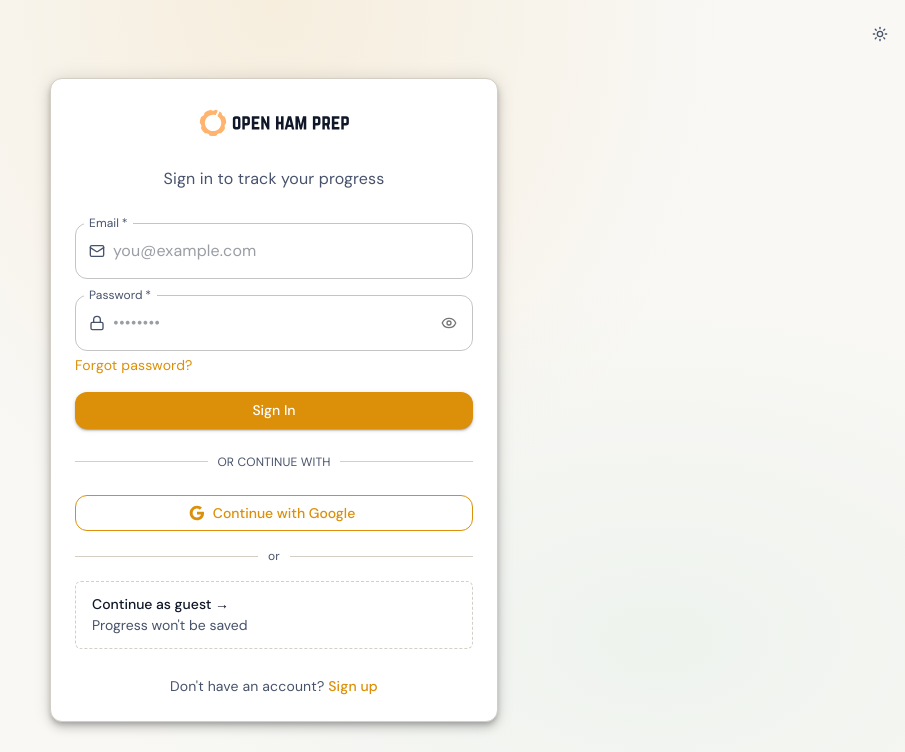
Auth › password reset › asks for an address and sends the link
This screenshot has width=905, height=752.
Click the button "Forgot password?" at coordinates (134, 366), box [75,355,193,376]
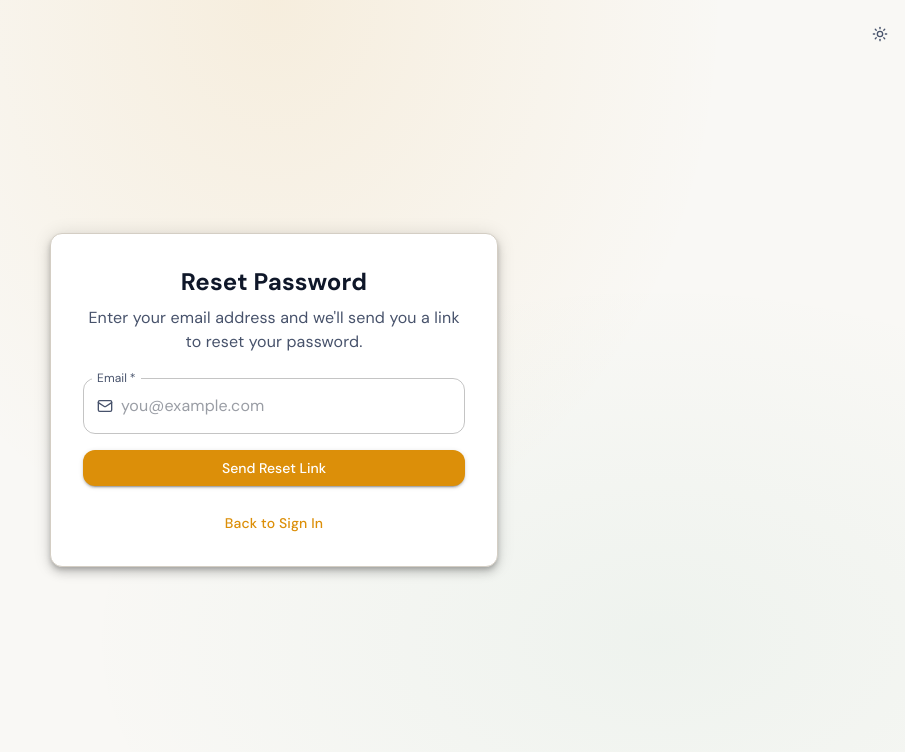
Expected: the heading "Reset Password" is shown, [181,266,367,297]
Type "ham@example.com" into the field labelled "Email" at coordinates (293, 406), box [121,378,465,434]
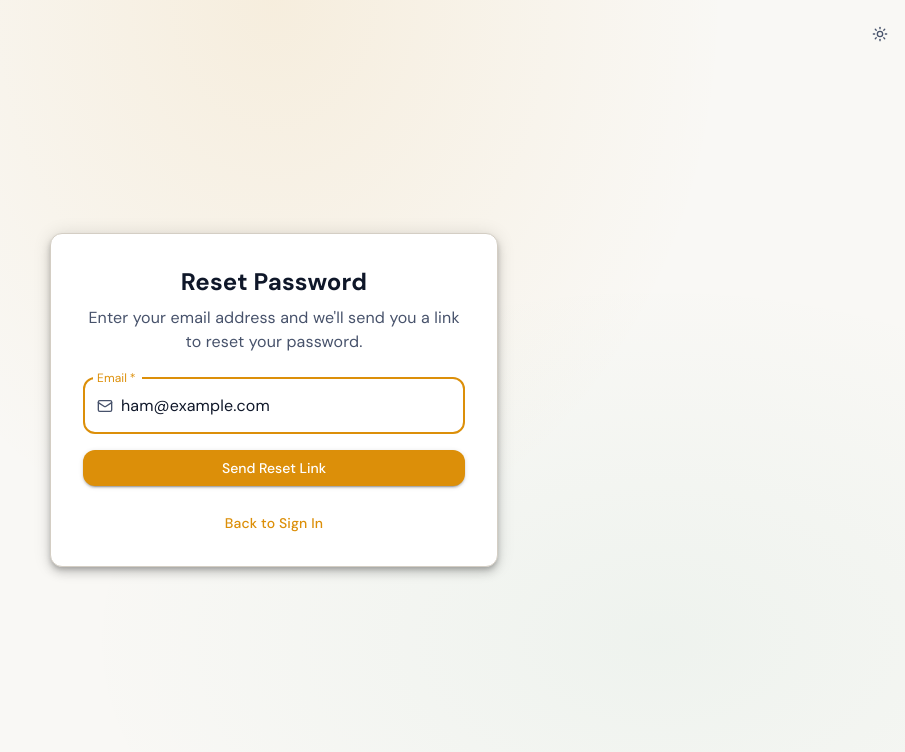
Click the button "Send Reset Link" at coordinates (274, 468), box [83,450,465,486]
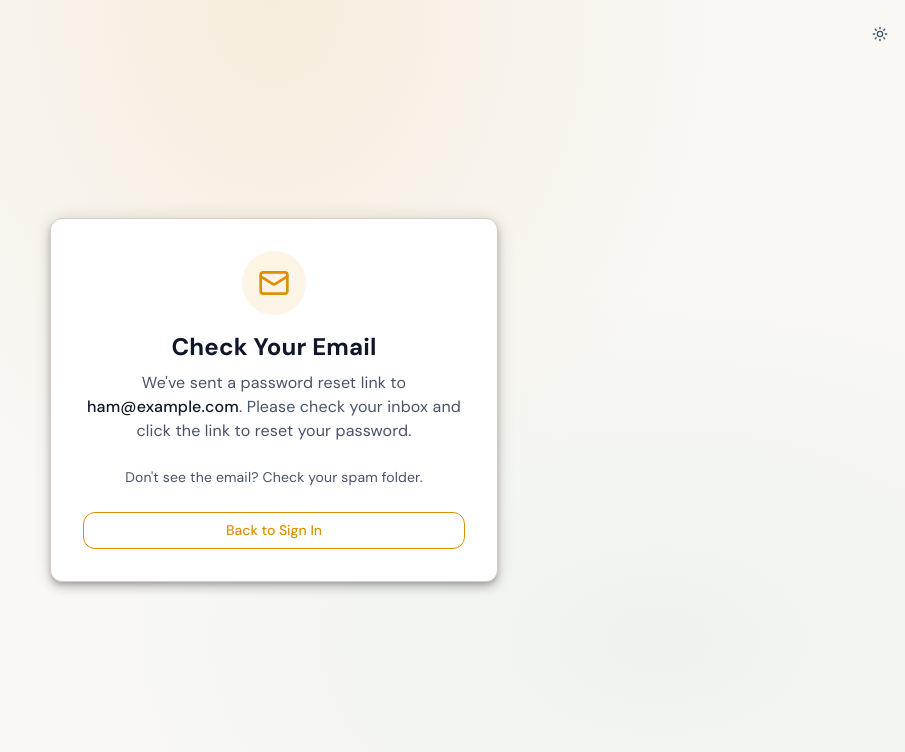
Expected: the heading "Check Your Email" is shown, [172,331,377,362]
